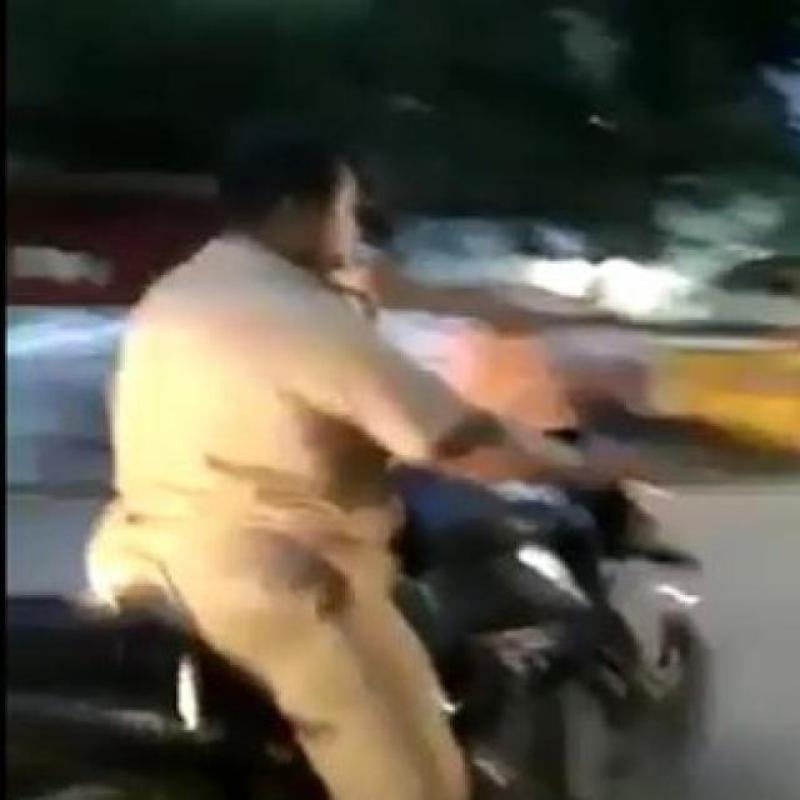nohelmet: (228, 116, 376, 260)
